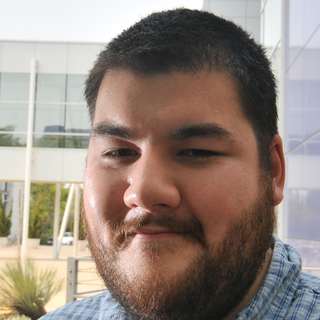eye: (172, 143, 228, 167), (95, 143, 144, 162)
